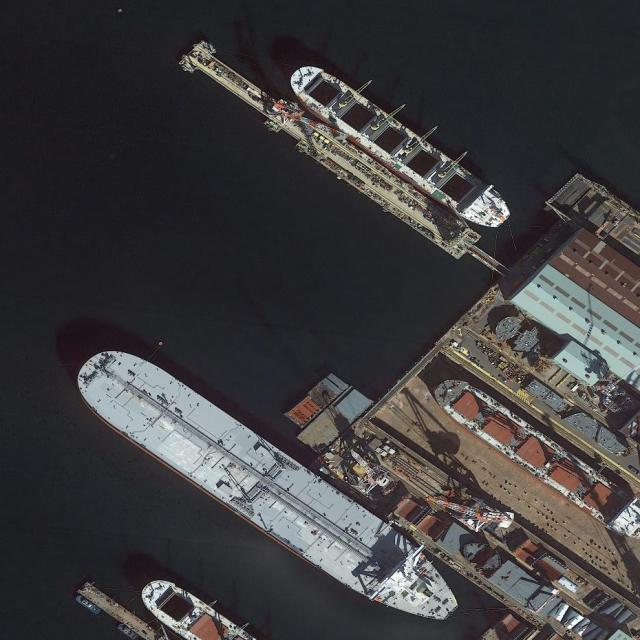Cargo: (278, 39, 529, 244)
Dock: (178, 34, 515, 284)
Oil Tanker: (61, 330, 460, 637)
